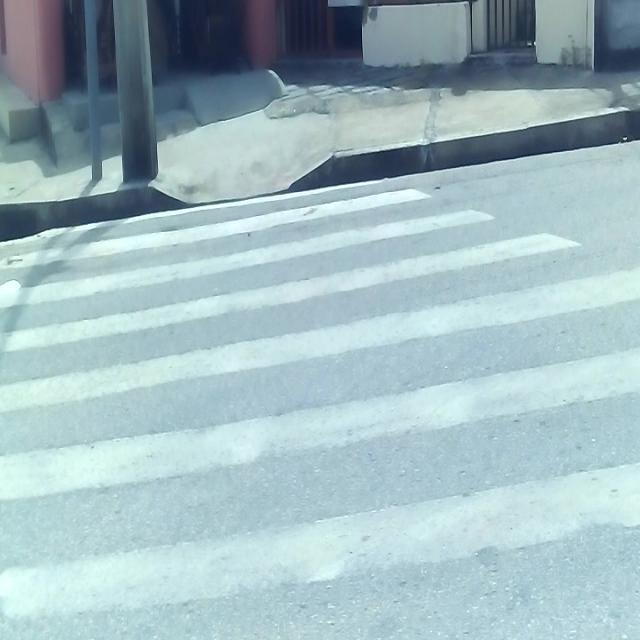crosswalk: (0, 176, 640, 640)
